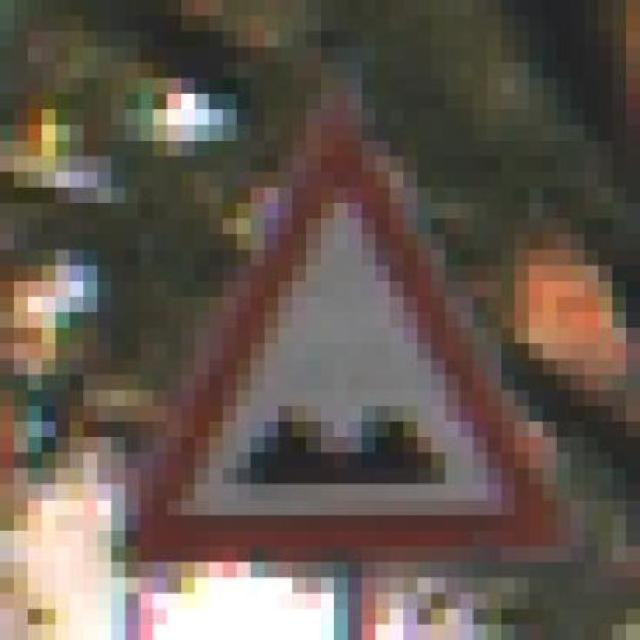Uneven Road: (111, 78, 571, 578)
